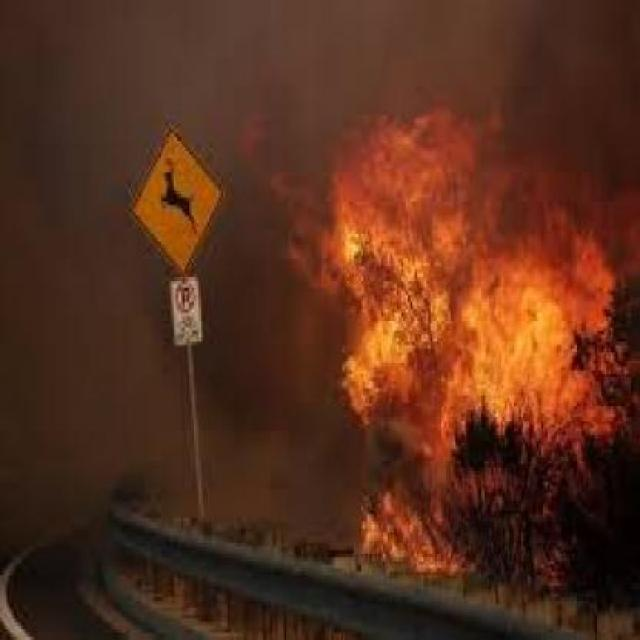Fire: (315, 96, 640, 592)
Smoke: (3, 12, 640, 104)
